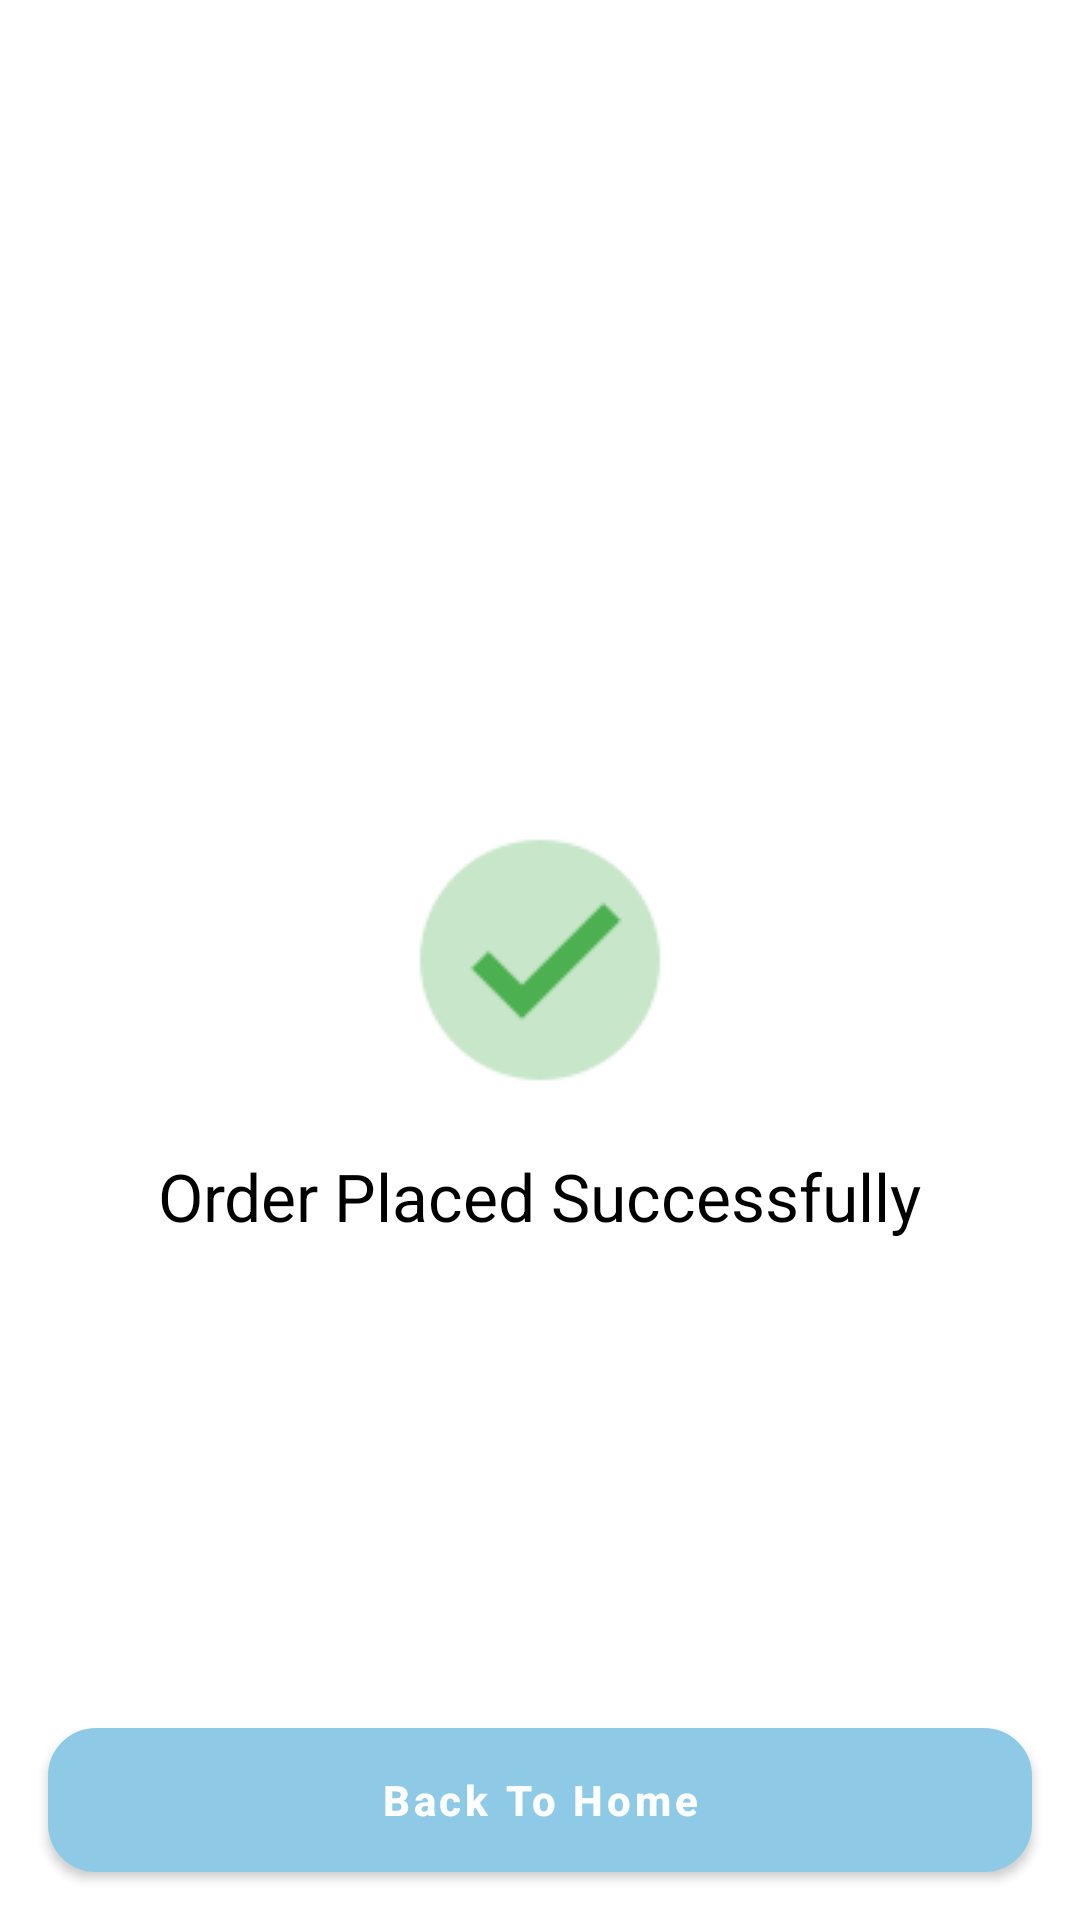

Where to tap for icons on this 1080px×1920px app screen, as (x,y):
check: (540,960)
